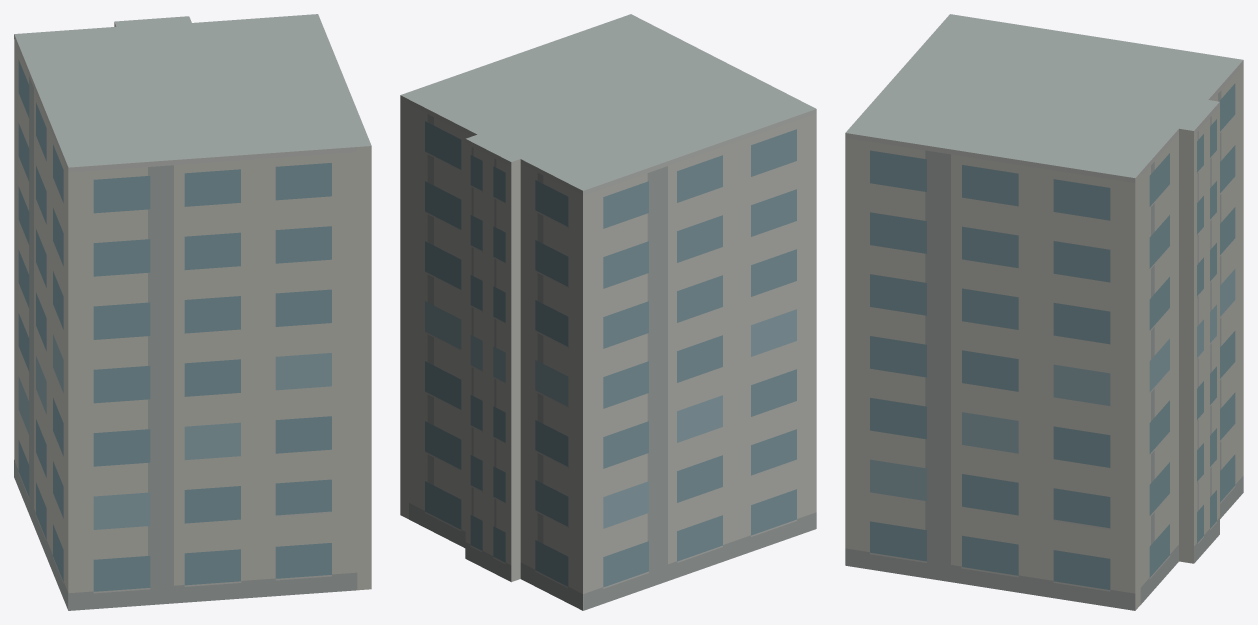
File: survey-upis-32616691.glb
3 views of the same model, side by side, from view 1: azimuth 30°, elevation 25°; view 2: azimuth 150°, elevation 25°; view 3: azimuth 270°, elevation 25° (orthographic). The views are drawn at different scales.
Parts seen in each view (by area): view 1: survey-upis-32616691.tmp; view 2: survey-upis-32616691.tmp; view 3: survey-upis-32616691.tmp.
Part boxes in pixels (box(x1,y1,x2,y2)): survey-upis-32616691.tmp: box(14, 14, 371, 610); survey-upis-32616691.tmp: box(400, 14, 816, 610); survey-upis-32616691.tmp: box(845, 14, 1243, 610).
Size of the model in its own units: 17.18 by 21.1 by 17.61.
